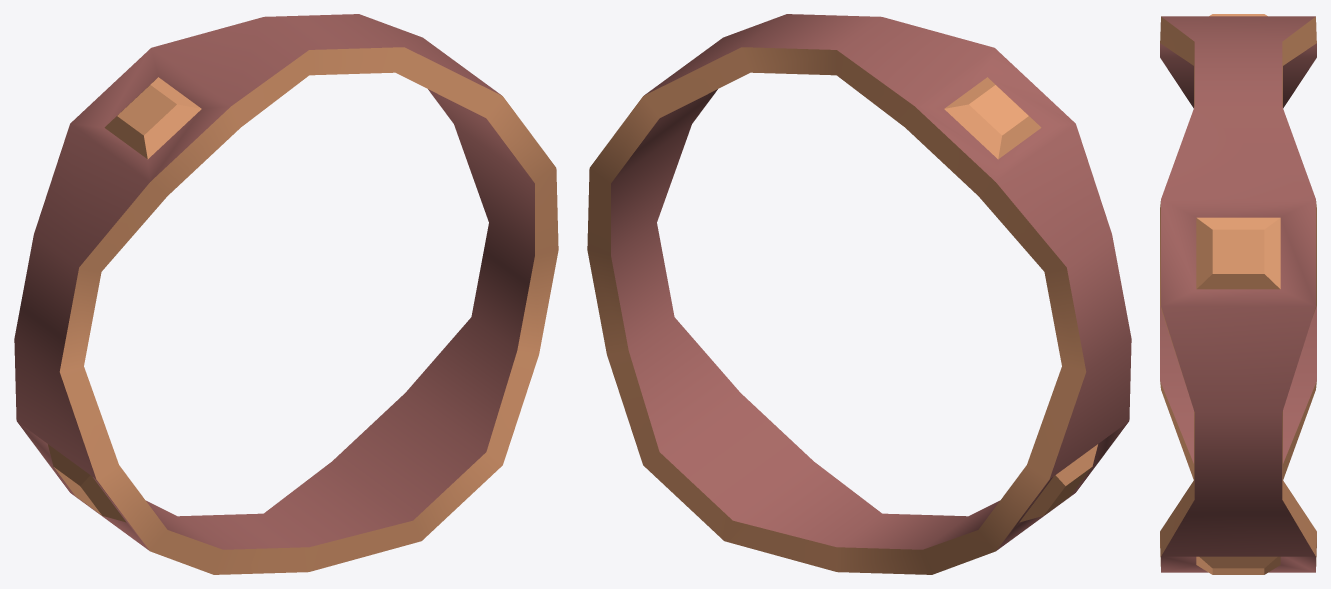
File: Belt2.fbx
The picture shows the model from 3 angles, left to right: view 1: azimuth 30°, elevation 25°; view 2: azimuth 150°, elevation 25°; view 3: azimuth 270°, elevation 25°; orthographic projection. The views are drawn at different scales.
Visible parts, largest first — view 1: belt; view 2: belt; view 3: belt.
Part boxes in pixels (x1=…): belt: x1=14, y1=14, x2=558, y2=574; belt: x1=587, y1=14, x2=1131, y2=574; belt: x1=1160, y1=14, x2=1316, y2=574.
Bounding box in the file's own units: 4.76 × 4.76 × 1.34.
